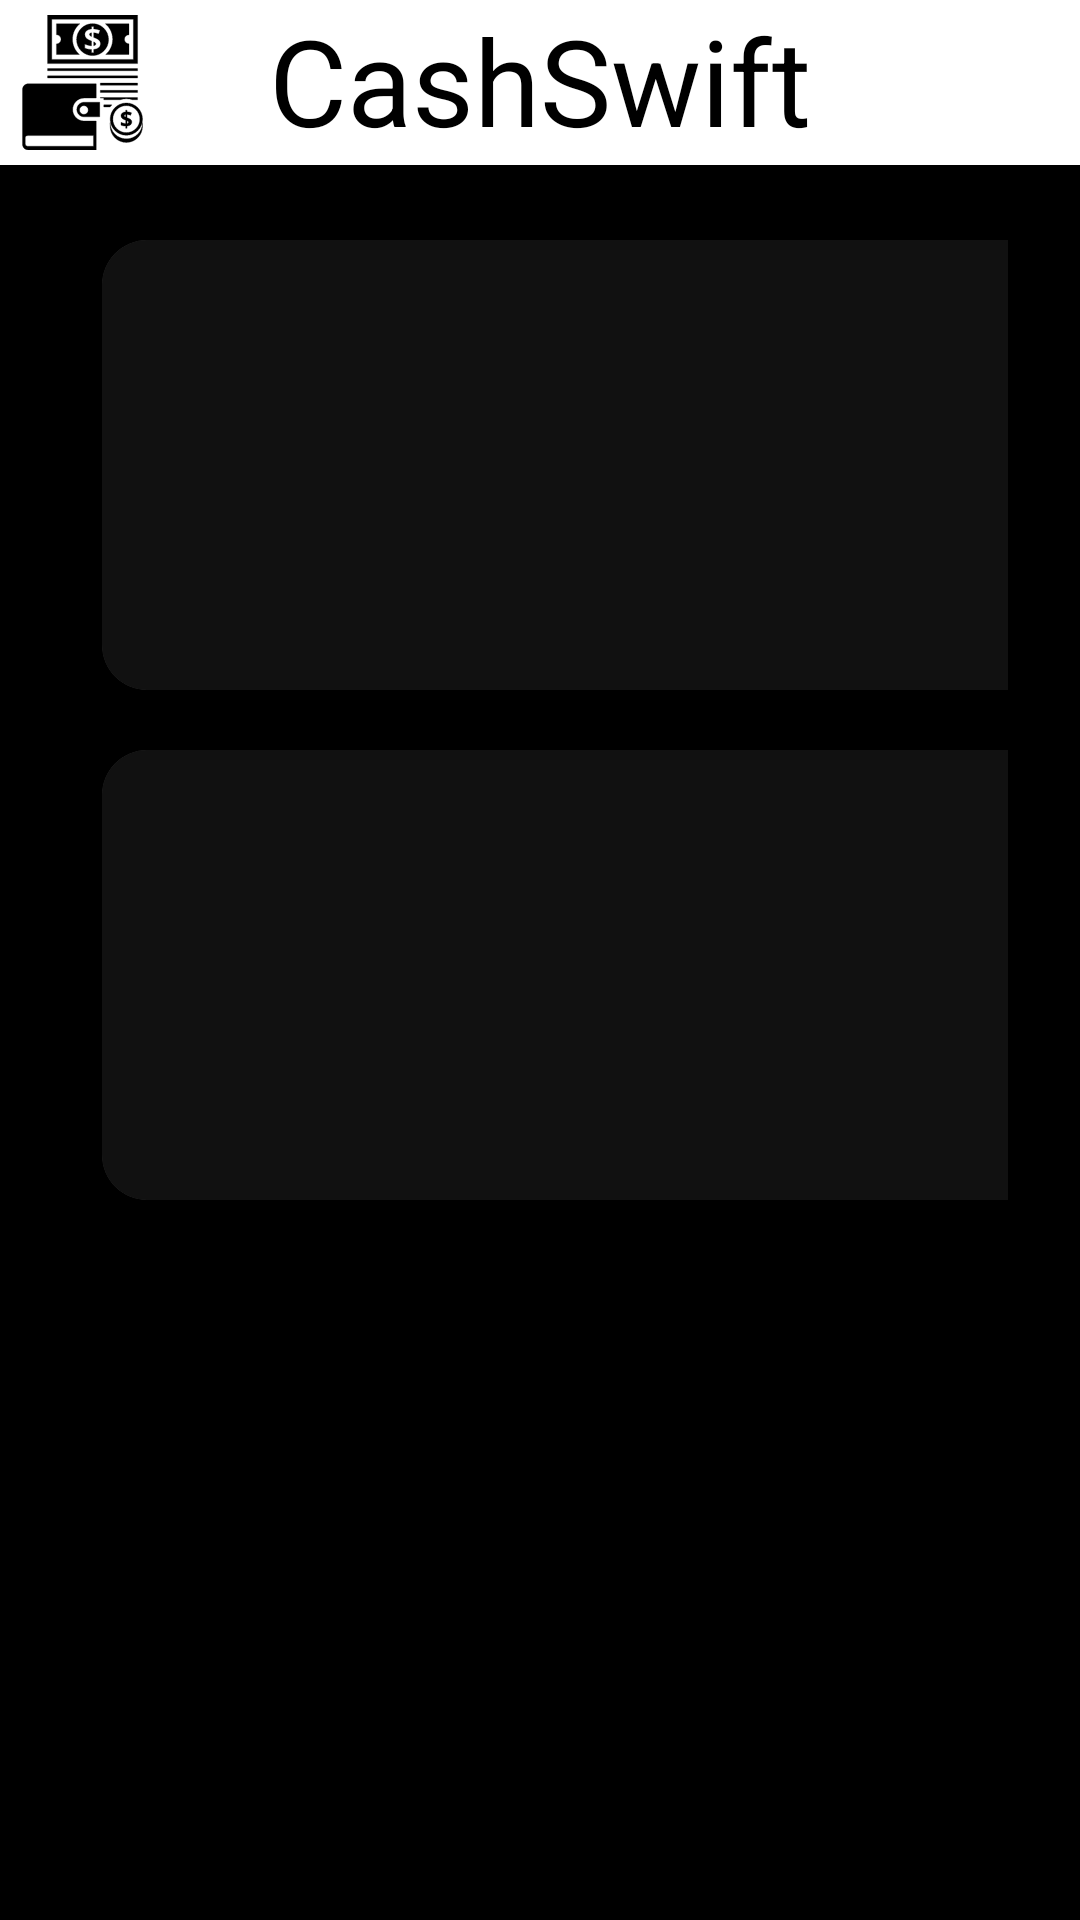

Locate icon controls on the screen. Image size 1080w x 1920h, boxes as (x1, y1, x2, y2).
money: (22, 15, 143, 150)
